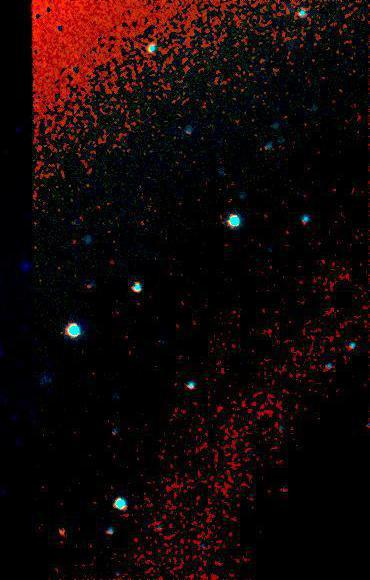star: (162, 315, 192, 345)
